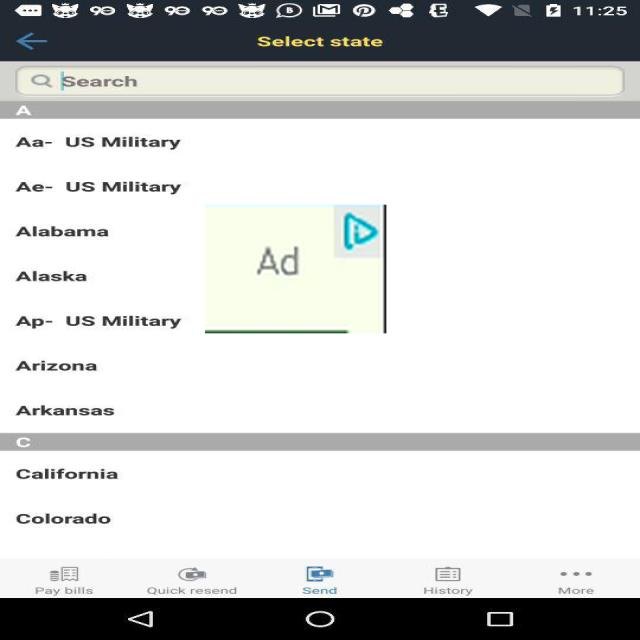sneaking: (205, 205, 386, 333)
